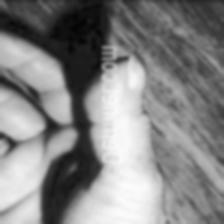Toxin: (122, 52, 146, 90), (129, 151, 149, 169)
